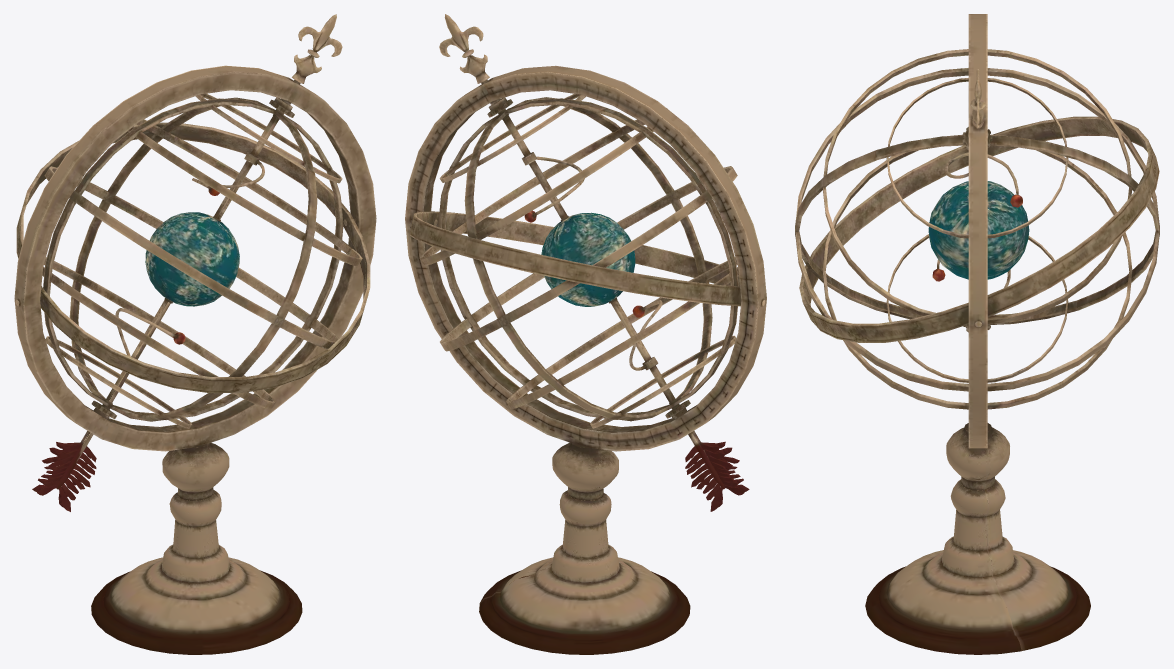
The model's file is armillary.glb.
3 renders of one model, left to right at view 1: azimuth 30°, elevation 25°; view 2: azimuth 150°, elevation 25°; view 3: azimuth 270°, elevation 25°, orthographic. The views are drawn at different scales.
Visible parts, largest first — view 1: armillary; view 2: armillary; view 3: armillary.
Part boxes in pixels (x1,y1,x2,y2): armillary: [14, 14, 376, 654]; armillary: [405, 14, 766, 654]; armillary: [795, 14, 1159, 654].
Size of the model in its own units: 2.65 by 4 by 2.2.
1 material, 1 textured.
